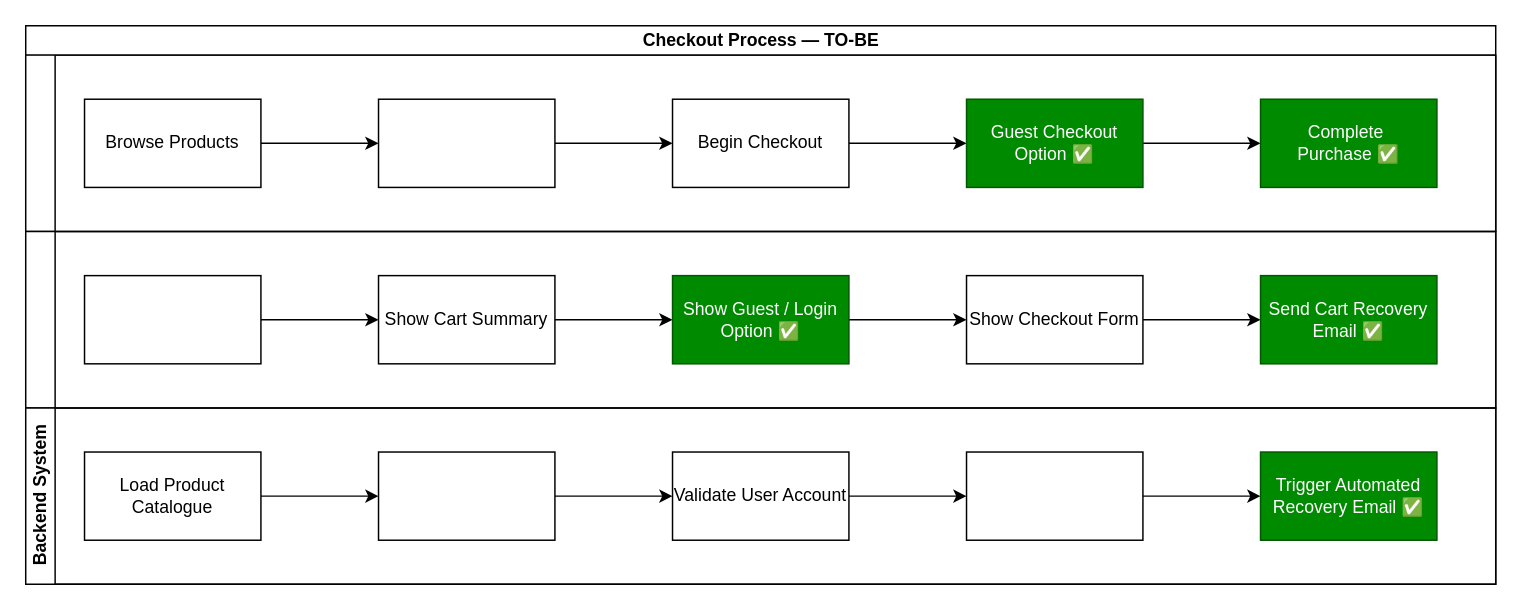
The diagram is 1521 pixels wide and 610 high, and some of its shapes have lost their labels. Here are the shapes that lost their labels. From the top down, the box of each, then its label:
(377, 98, 555, 187): Add Item to Cart
(24, 54, 1496, 232): Customer
(83, 274, 261, 364): Display Product Pages
(24, 230, 1496, 408): Website System
(377, 451, 555, 540): Update Cart Database
(965, 451, 1143, 540): Process Payment Request
